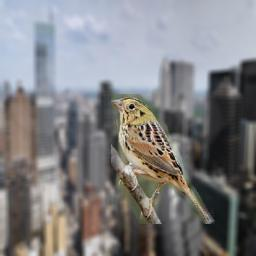Sparrow: (111, 94, 215, 224)
